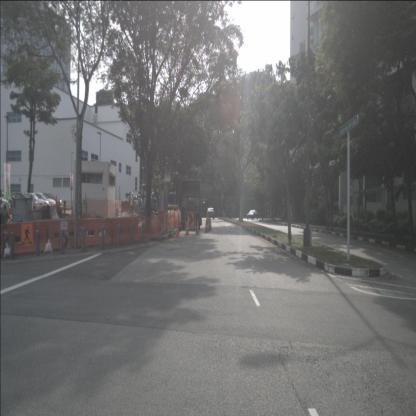barrier: (6, 221, 48, 256), (46, 218, 82, 252), (81, 217, 112, 247), (111, 216, 140, 245)
cone: (185, 220, 190, 236), (204, 219, 209, 234), (176, 221, 180, 238), (196, 219, 200, 235), (208, 218, 212, 230)
